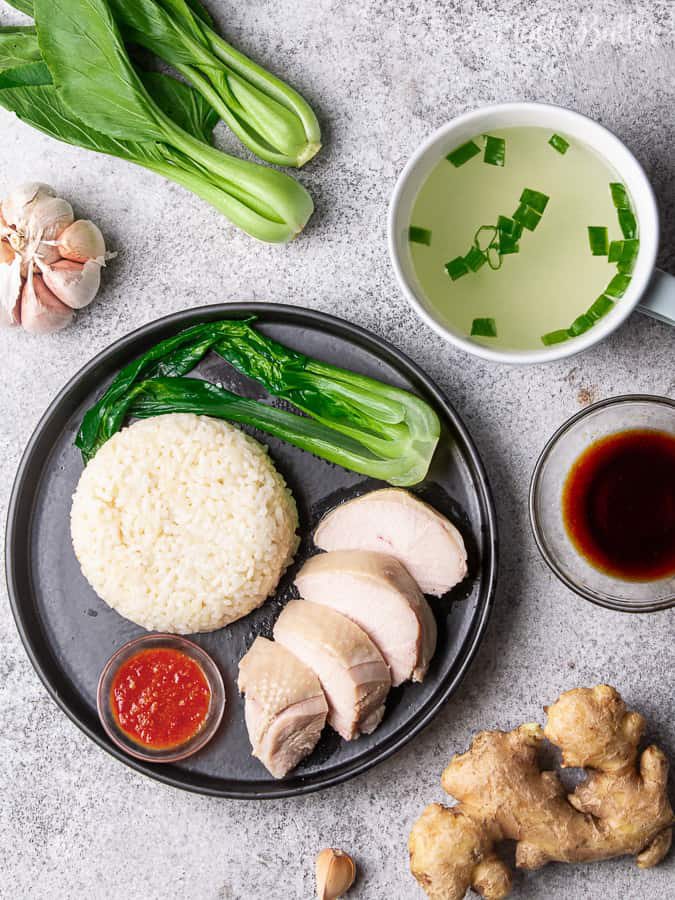Steamed Chicken Rice: (60, 388, 463, 770)
